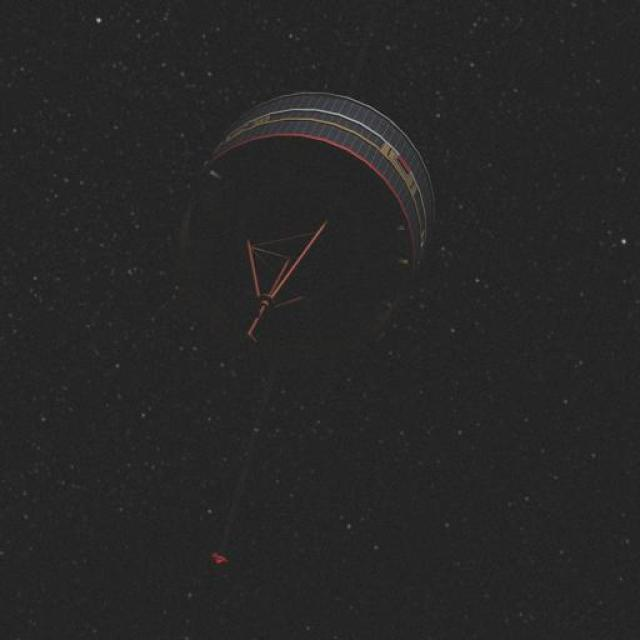double_start: (195, 81, 442, 388)
